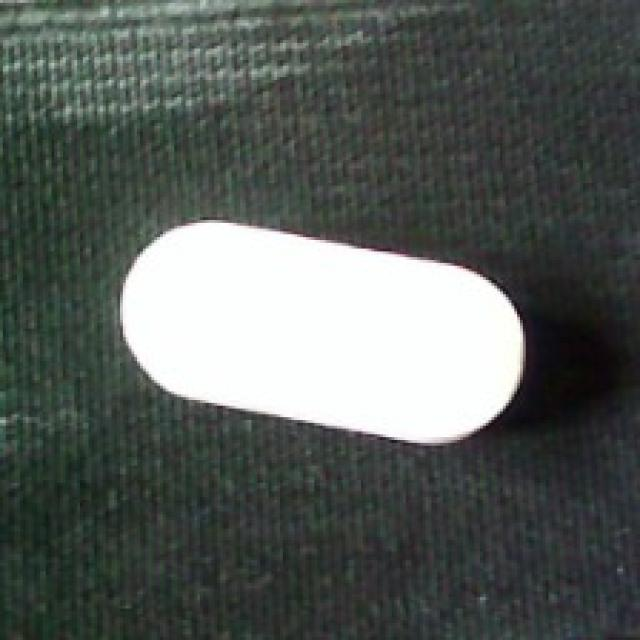no-defect: (111, 220, 528, 446)
